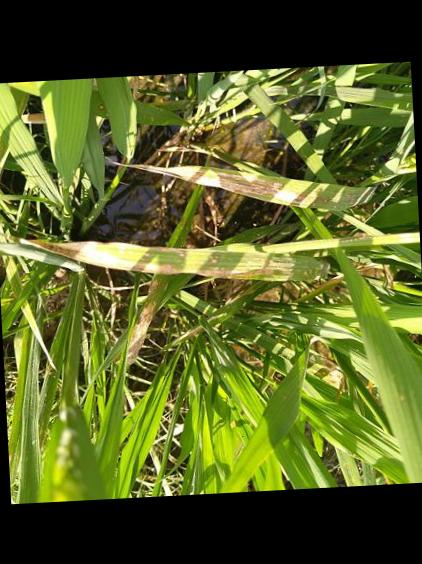Leaf Streak: (110, 161, 366, 208), (59, 240, 340, 280), (120, 276, 168, 367)
